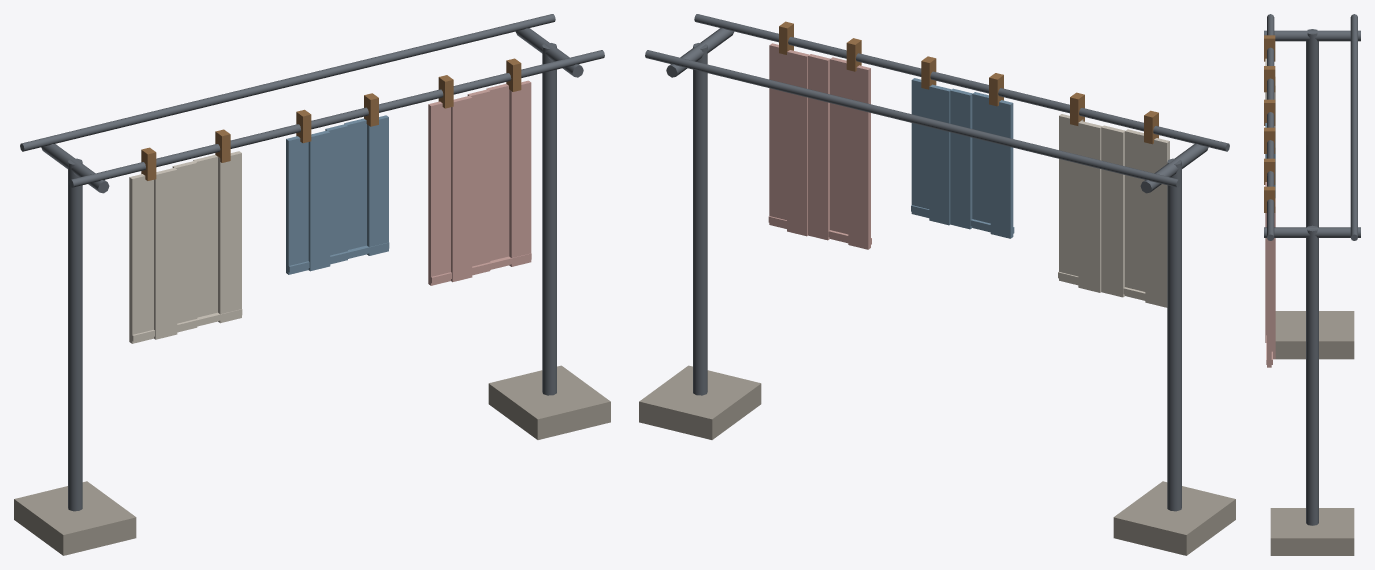
Rendered from komachi-laundry-pole.glb.
3 renders of one model, left to right at view 1: azimuth 30°, elevation 25°; view 2: azimuth 150°, elevation 25°; view 3: azimuth 270°, elevation 25°, orthographic. The views are drawn at different scales.
Visible parts, largest first — view 1: Laundry_Cloth_And_Pegs, Laundry_Frame; view 2: Laundry_Cloth_And_Pegs, Laundry_Frame; view 3: Laundry_Frame, Laundry_Cloth_And_Pegs.
Part boxes in pixels (x1,y1,x2,y2): Laundry_Cloth_And_Pegs: (129, 58, 531, 343); Laundry_Frame: (14, 14, 610, 555); Laundry_Cloth_And_Pegs: (768, 21, 1169, 307); Laundry_Frame: (639, 14, 1235, 555); Laundry_Frame: (1264, 14, 1360, 555); Laundry_Cloth_And_Pegs: (1264, 35, 1275, 367).
Bounding box in the file's own units: 0.577 × 0.3875 × 0.104.
